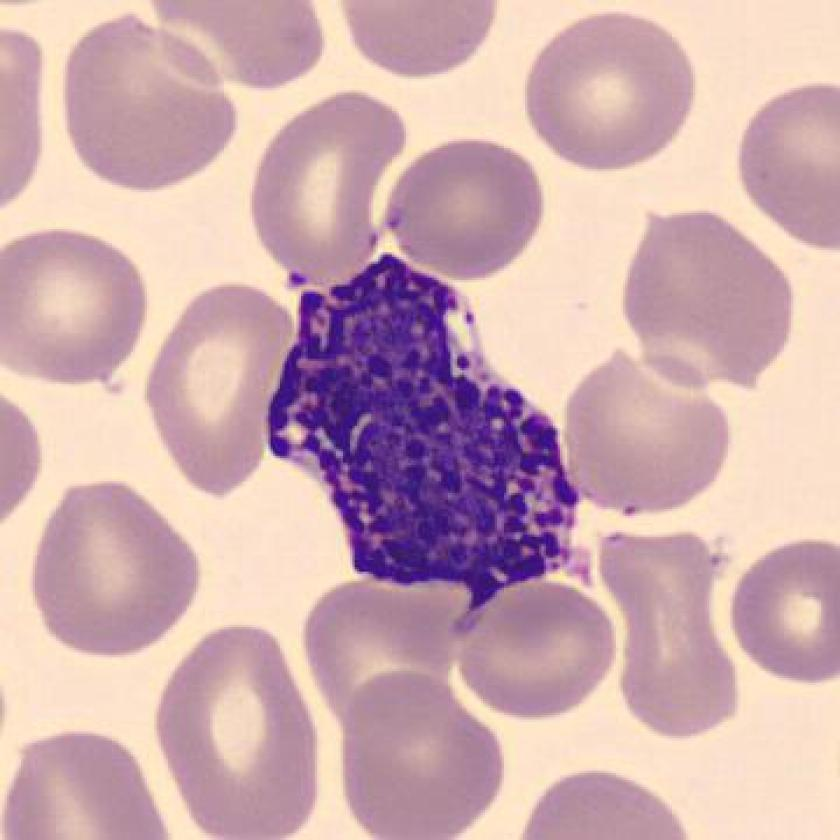basophil: (260, 256, 591, 594)
